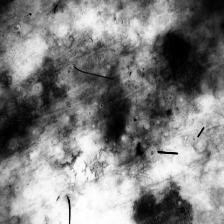Benign Marking or Mole: (0, 32, 192, 184), (132, 188, 195, 224)
